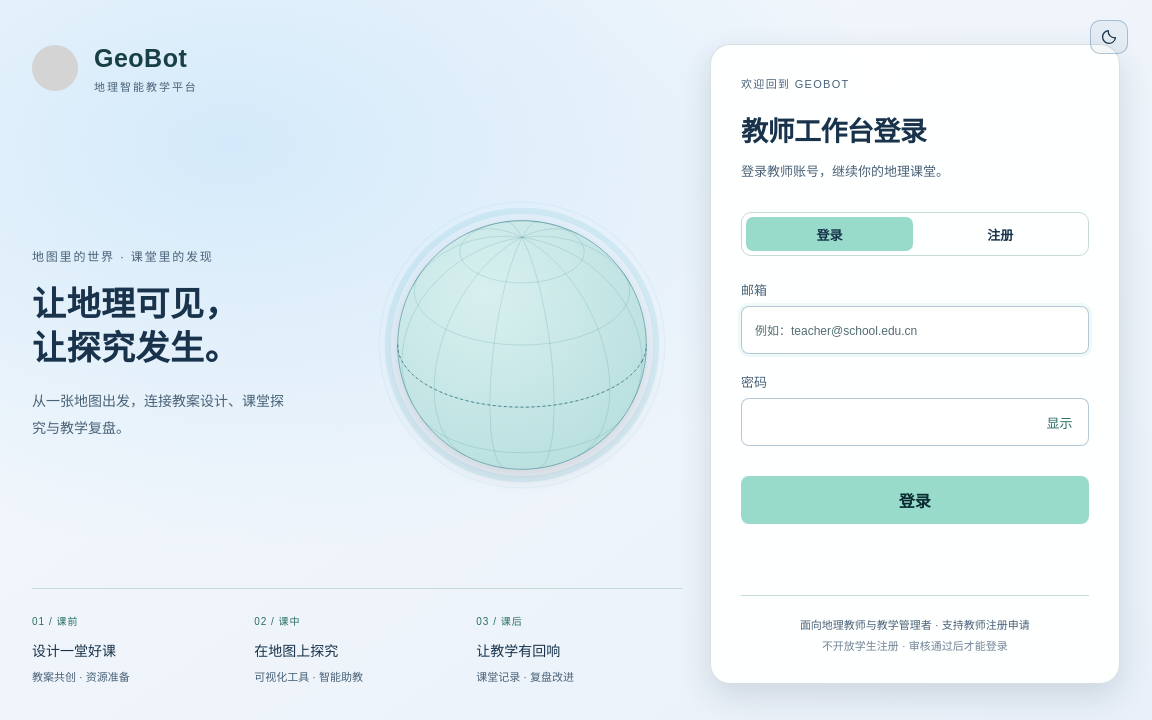
AuthGate registration › shows the registration entry in approval mode and switches between views
The width and height of the screenshot is (1152, 720).
Expected: the heading "教师工作台登录" is shown, [742,117,927,147]
Click the button "注册" at [1001, 234], box [917,217,1084,251]
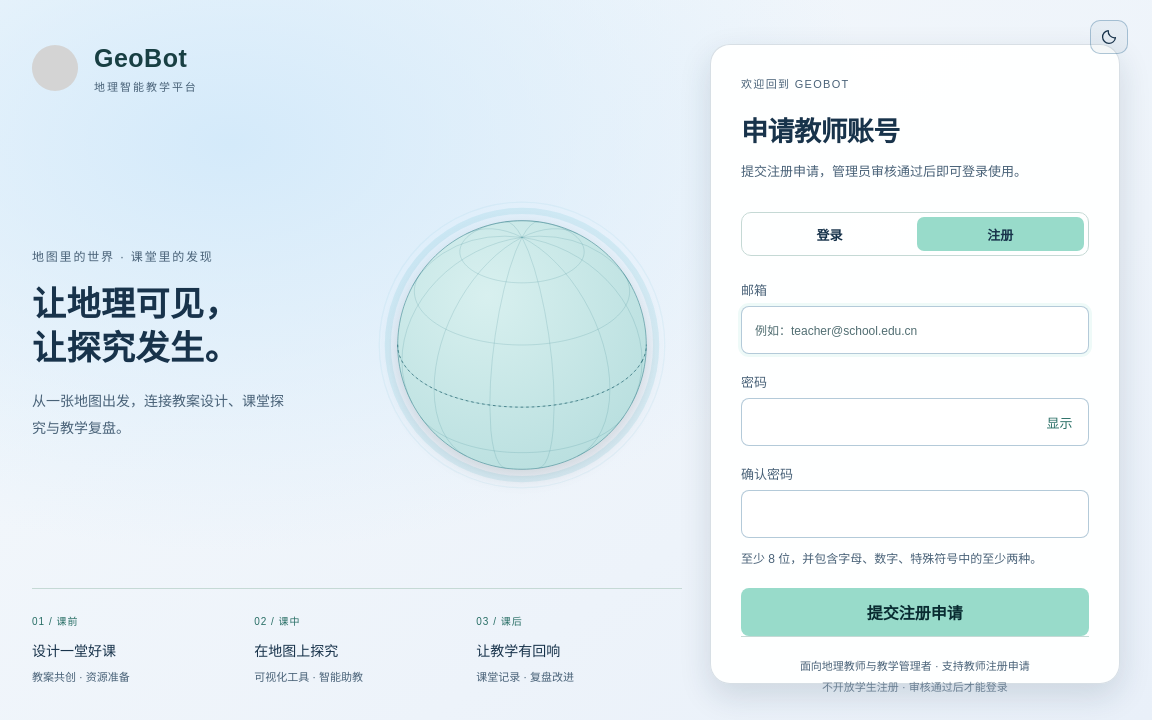
Expected: the field labelled "邮箱" is shown, [742,306,1089,354]
Expected: the heading "申请教师账号" is shown, [742,117,900,147]
Click the button "登录" at [830, 234], box [746,217,913,251]
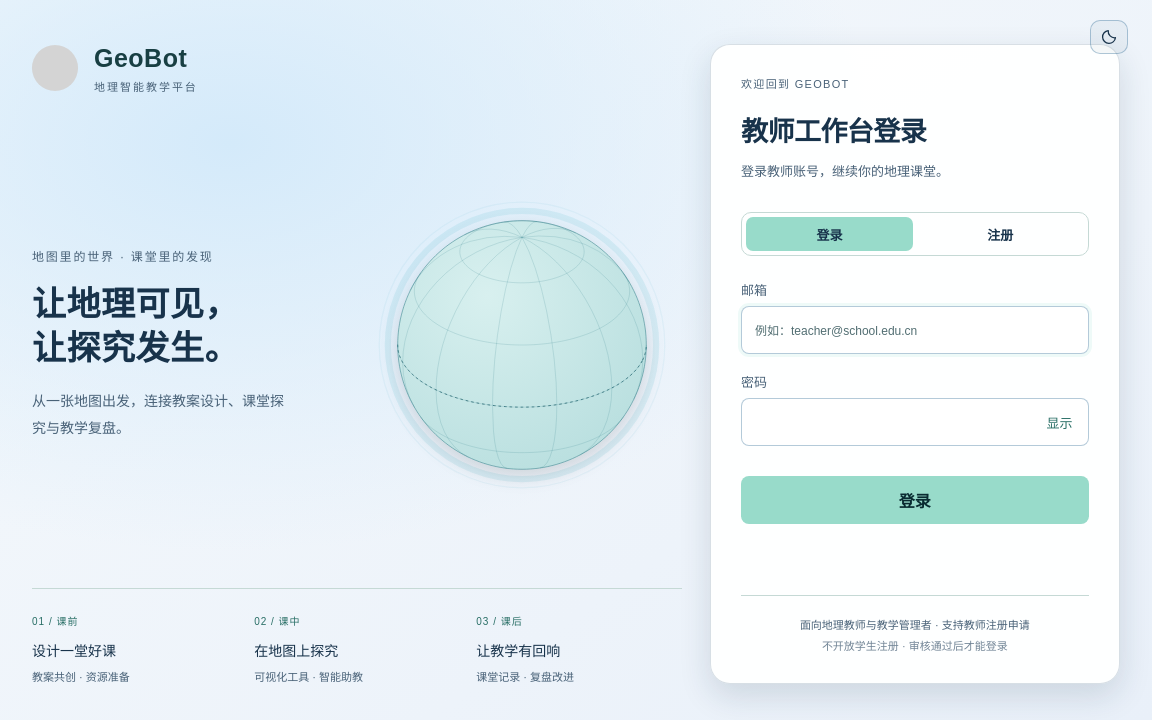
Expected: the text "不开放学生注册 · 审核通过后才能登录" is shown, [822,640,1008,652]
Expected: the heading "教师工作台登录" is shown, [742,117,927,147]
